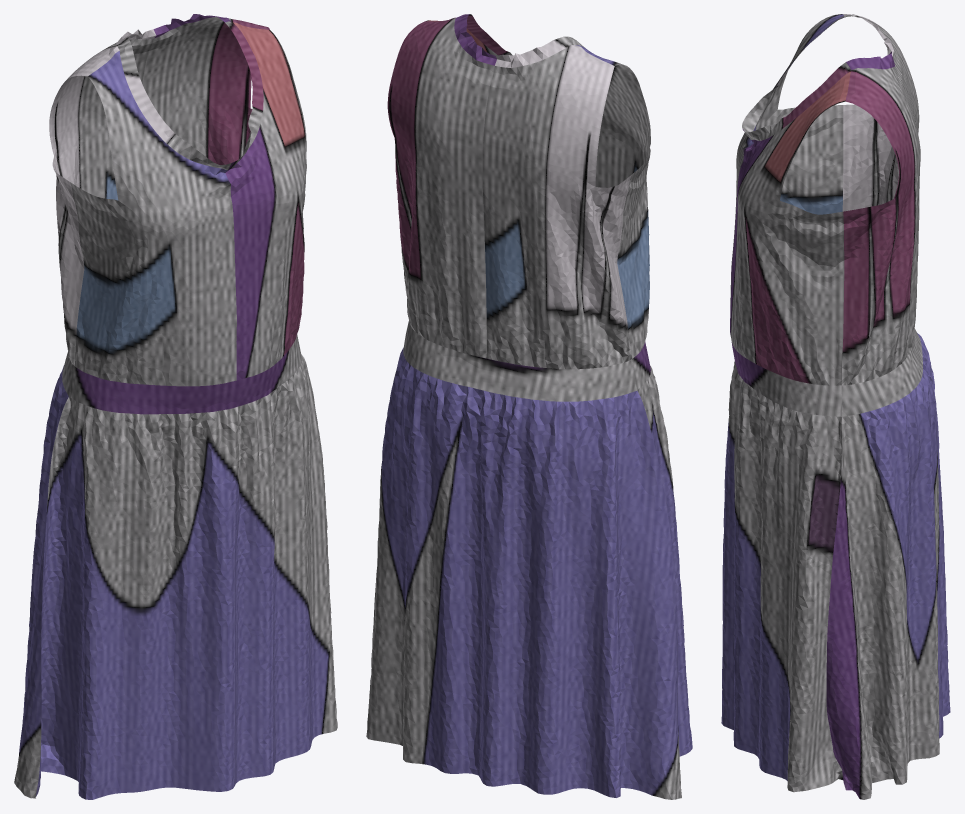
File: valid_garment_wholebody_sim.obj
The picture shows the model from 3 angles, left to right: view 1: azimuth 30°, elevation 25°; view 2: azimuth 150°, elevation 25°; view 3: azimuth 270°, elevation 25°; orthographic projection. The views are drawn at different scales.
Bounding box in the file's own units: 48.39 × 115 × 33.62.
